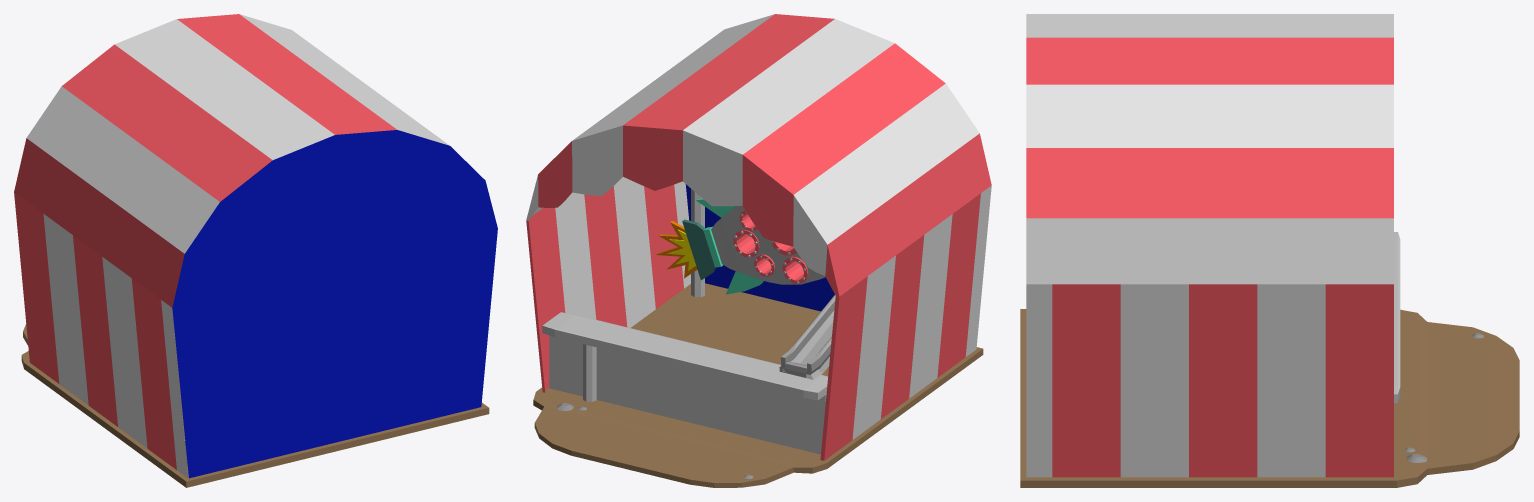
Rendered from ballTossSet.fbx.
3 renders of one model, left to right at view 1: azimuth 30°, elevation 25°; view 2: azimuth 150°, elevation 25°; view 3: azimuth 270°, elevation 25°, orthographic. The views are drawn at different scales.
Parts seen in each view (by area): view 1: Tent, Base; view 2: Tent, Base, Table, RocketDetail, Rocket, BallDispenser, BallTossBuckets, BallTossStructure; view 3: Tent, Base, Table.
Part boxes in pixels (x1,y1,x2,y2): Tent: (14,14,497,478); Base: (21,324,489,487); Tent: (526,14,991,460); Base: (533,283,983,487); Table: (542,312,827,454); RocketDetail: (656,198,763,294); Rocket: (711,206,825,284); BallDispenser: (779,295,835,379); BallTossBuckets: (733,210,808,283); BallTossStructure: (691,189,704,297); Tent: (1026,14,1393,477); Base: (1020,309,1519,487); Table: (1394,232,1400,403).
Size of the model in its own units: 1766 by 1629 by 2022.
